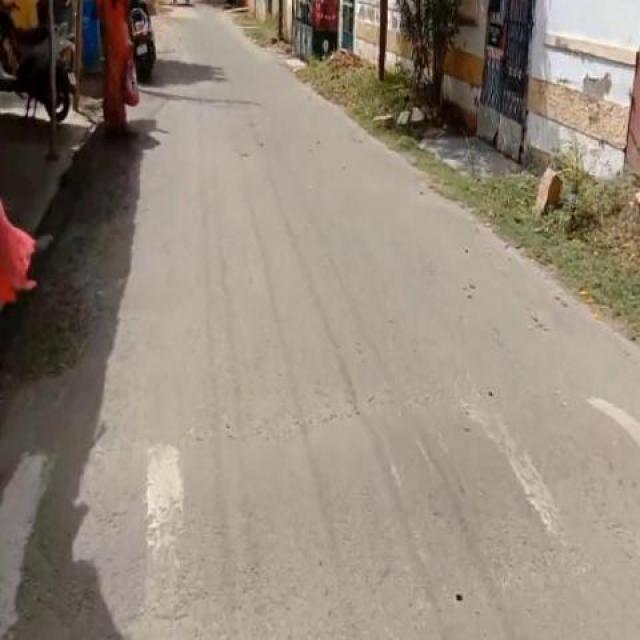Speed Bump: (0, 380, 639, 640)
